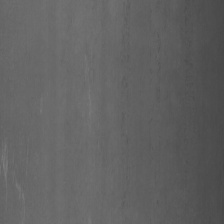silk_spot: (0, 134, 35, 207)
